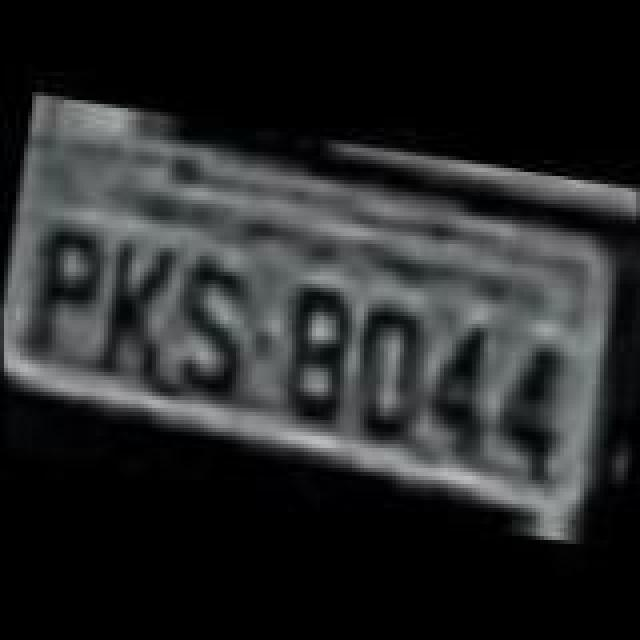4: (410, 312, 510, 460), (482, 330, 582, 478)
8: (264, 276, 364, 428)
K: (84, 234, 184, 390)
O: (340, 296, 432, 436)
P: (22, 222, 110, 362)
S: (160, 246, 260, 398)
